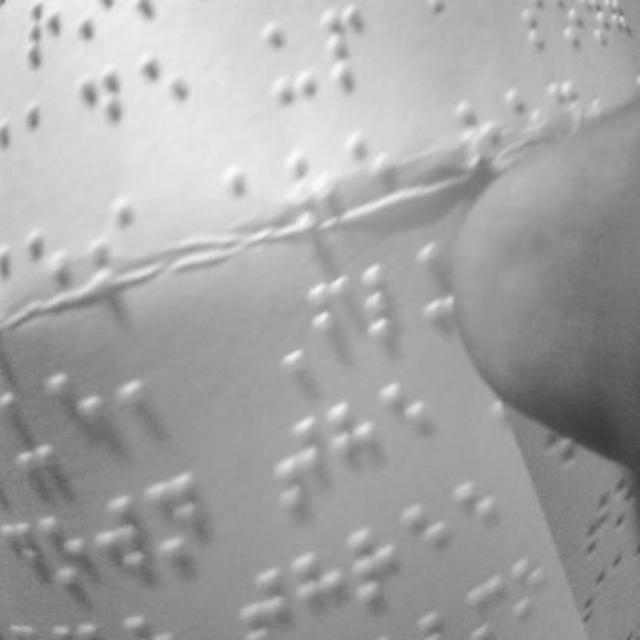braiile: (49, 363, 107, 467), (263, 12, 319, 110), (76, 58, 128, 160), (139, 43, 191, 143), (274, 418, 328, 514), (382, 379, 436, 475), (362, 253, 414, 351), (322, 3, 374, 101), (21, 97, 70, 197), (38, 505, 86, 605), (330, 396, 380, 490), (121, 353, 173, 442), (310, 271, 358, 367), (349, 524, 401, 612), (453, 470, 502, 560), (405, 495, 455, 581), (296, 548, 342, 640)
